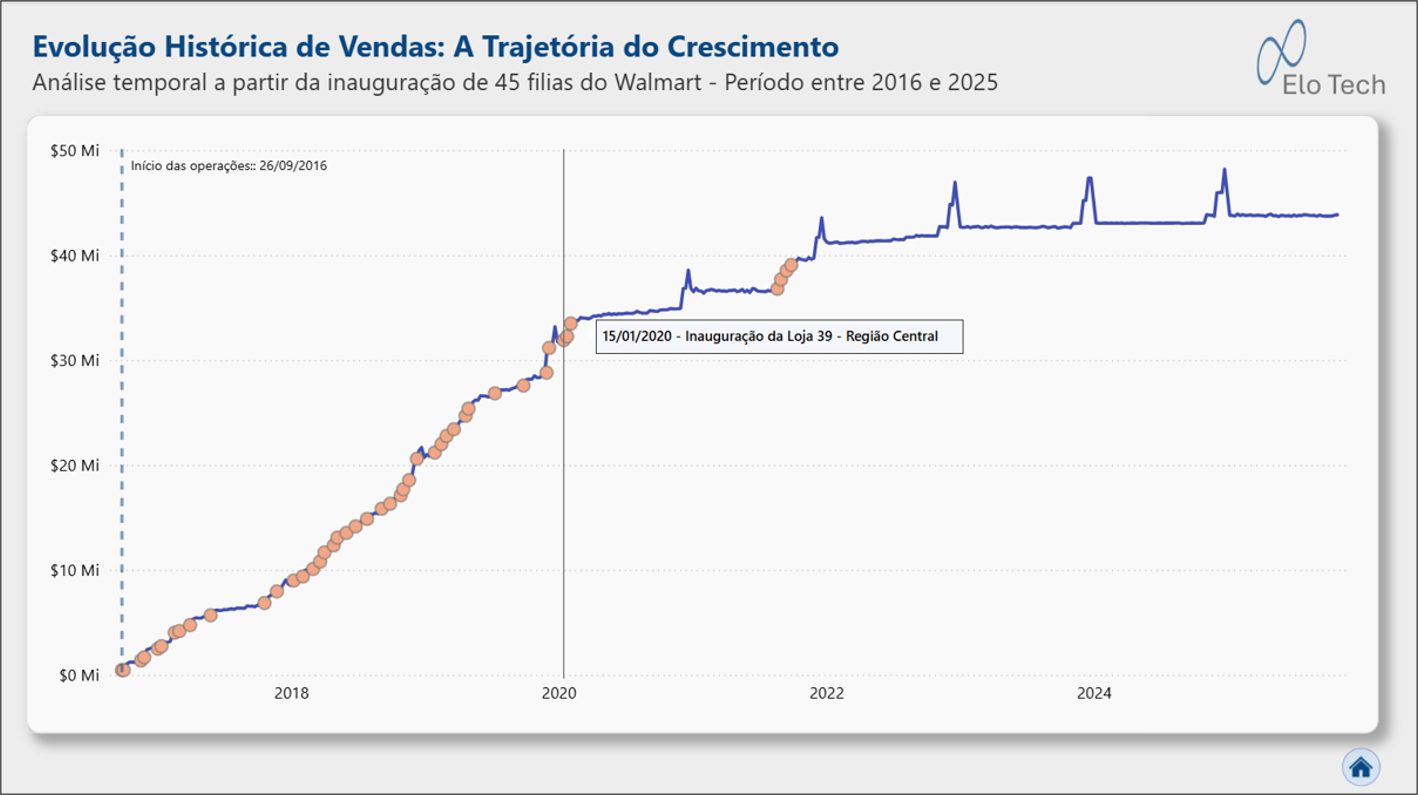

What the dashboard file says about the page in this screenshot:
{"tool":"powerbi","page":{"name":"Evolução no País","canvas":[1280,720],"ordinal":1},"visuals":[{"type":"textbox","box":[25.6,17.4,890.7,83.7],"z":0},{"type":"lineChart","fields":{"Category":["dCalendario_Diario.Data"],"Y":["Medidas de Soma.Vendas Visual","Medidas de Soma.Ponto Inauguracao"]},"box":[25.6,103.5,1220.9,558.1],"z":1000},{"type":"actionButton","box":[1212.8,675.6,34.9,34.9],"z":2000},{"type":"image","box":[1124.4,10.5,143,87.2],"z":3000}]}

Visuals, with their boxes in screenshot pixels (x1, y1, x2, y2), scaled from the page's 1280x720 canvas onto the 1418x795 screenshot:
textbox: BBox(28, 19, 1015, 112)
lineChart - dCalendario_Diario.Data x Medidas de Soma.Vendas Visual: BBox(28, 114, 1381, 731)
actionButton: BBox(1344, 746, 1382, 785)
image: BBox(1246, 12, 1404, 108)
